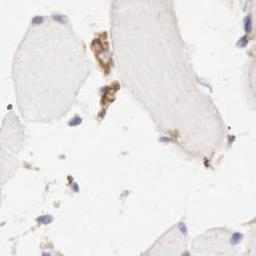nucleus: (234, 35, 253, 48), (49, 15, 70, 25), (36, 213, 55, 224), (228, 232, 244, 245), (67, 116, 83, 128), (199, 79, 213, 92), (243, 13, 252, 32), (156, 136, 172, 145), (180, 222, 189, 237), (32, 15, 45, 25), (225, 142, 233, 151), (105, 51, 111, 59), (73, 184, 79, 191), (42, 251, 50, 256), (99, 86, 107, 91), (181, 251, 190, 255)
positive_cell: (88, 28, 115, 76), (97, 81, 121, 119), (156, 129, 176, 144), (68, 175, 79, 193), (224, 135, 234, 150)
